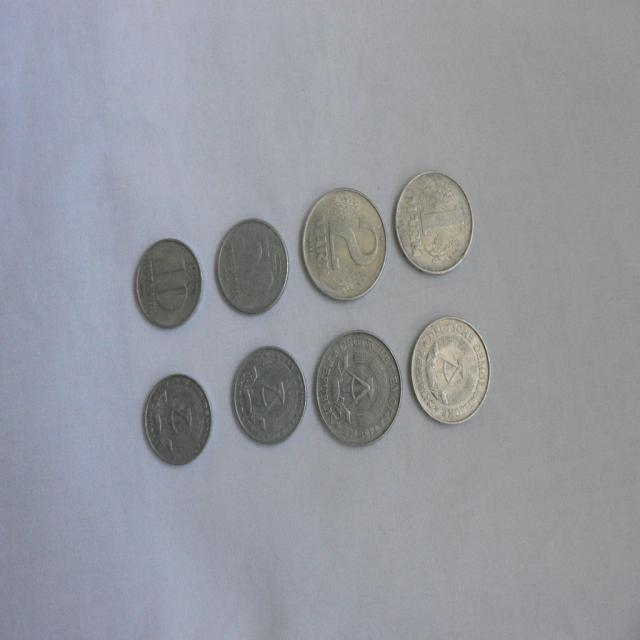Coin: (313, 330, 402, 445), (299, 187, 387, 301), (406, 315, 491, 425), (396, 168, 473, 278), (229, 346, 306, 447), (133, 236, 206, 330), (144, 373, 214, 467)
